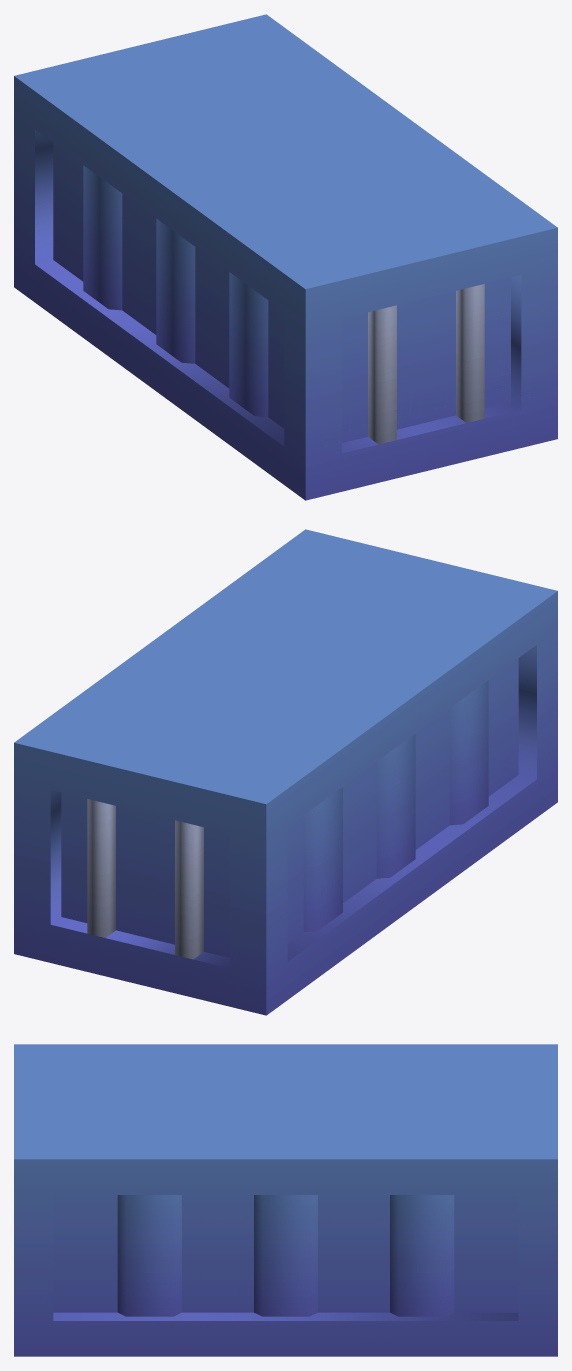
File: cargo-container-b-transformed-transformed.glb
3 views of the same model, one above another, from view 1: azimuth 30°, elevation 25°; view 2: azimuth 150°, elevation 25°; view 3: azimuth 270°, elevation 25° (orthographic). The views are drawn at different scales.
Visible parts, largest first — view 1: cargo-container-b; view 2: cargo-container-b; view 3: cargo-container-b.
Boxes of the visible parts, box(x1,y1,x2,y2) form: cargo-container-b: box(14, 14, 557, 500); cargo-container-b: box(14, 529, 557, 1015); cargo-container-b: box(14, 1044, 557, 1356).
Bounding box in the file's own units: 1.38 × 1.1 × 2.76.
Materials: 1 (1 with a texture image).
